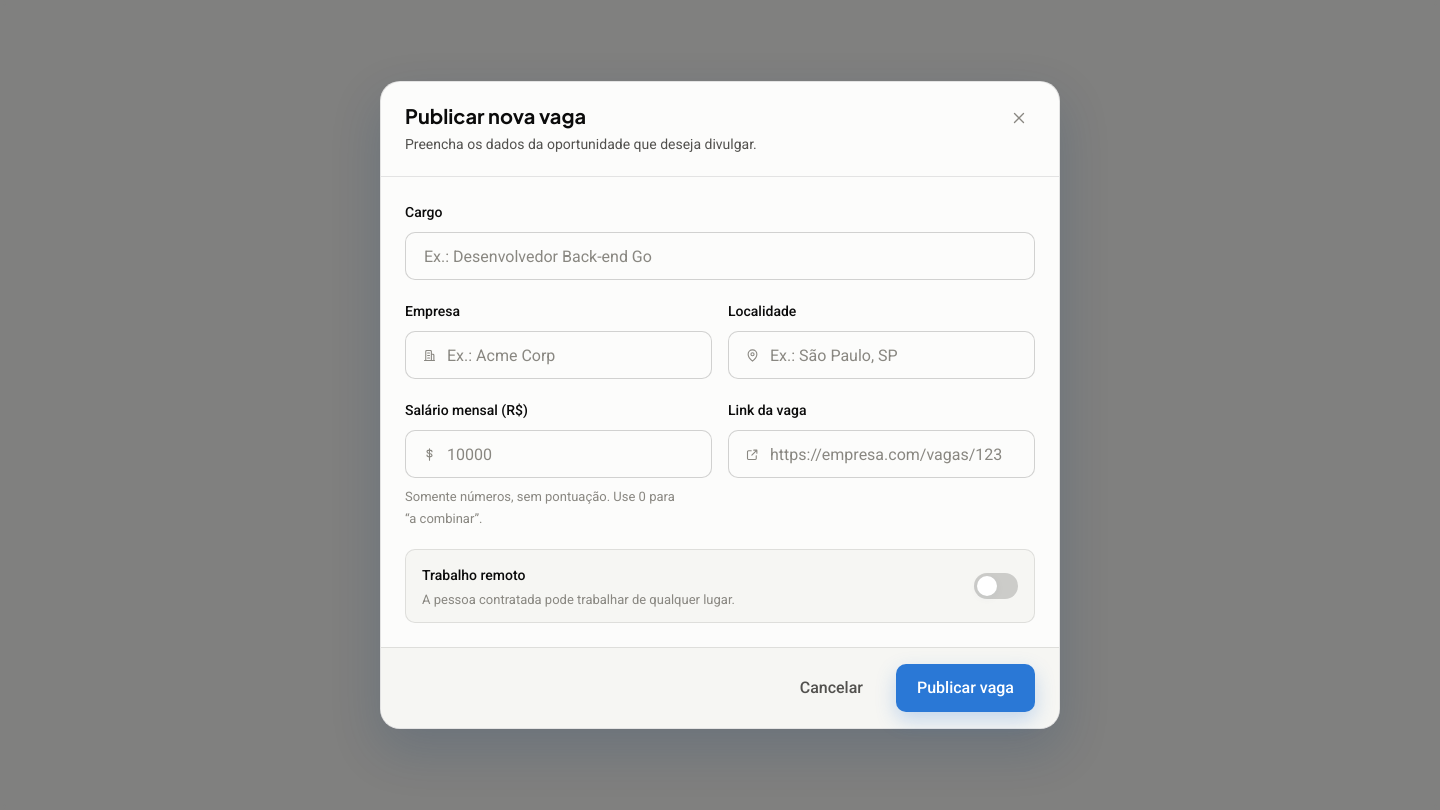
Test: OpeningForm › blocks an empty submit and reports every missing field
Click the button "Publicar vaga" at {"x": 966, "y": 688}, box x1=896 y1=664 x2=1035 y2=712
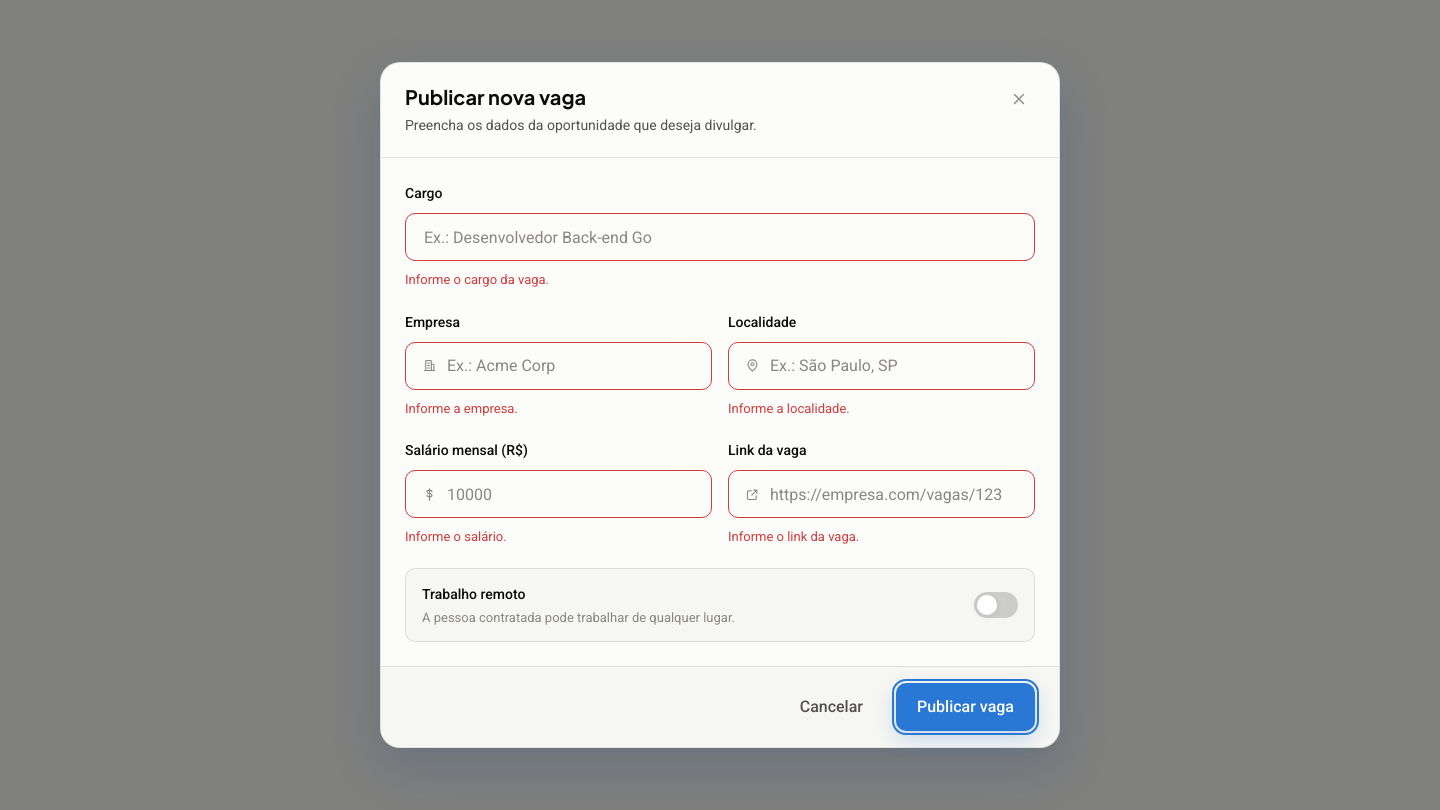
Expected: the text "Informe o cargo da vaga." is shown, x1=405 y1=272 x2=549 y2=287
Expected: the text "Informe a empresa." is shown, x1=405 y1=401 x2=518 y2=416
Expected: the text "Informe a localidade." is shown, x1=728 y1=401 x2=850 y2=416
